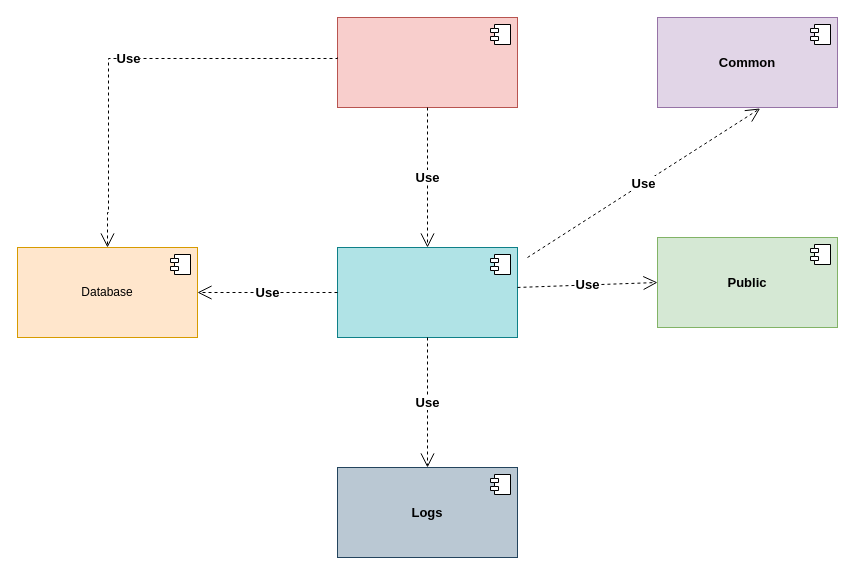
This 855x575 diagram has some shape labels left out. The box of each missing label's shape, as (x1, y1, x2, y2) in pixels:
Application: (336, 16, 518, 108)
Modules: (336, 246, 518, 338)
